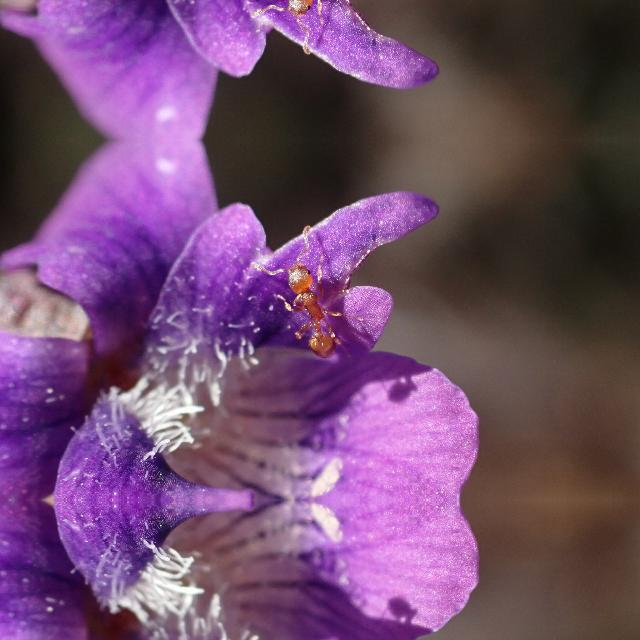Temnothorax: (260, 252, 364, 358), (260, 0, 364, 26)
